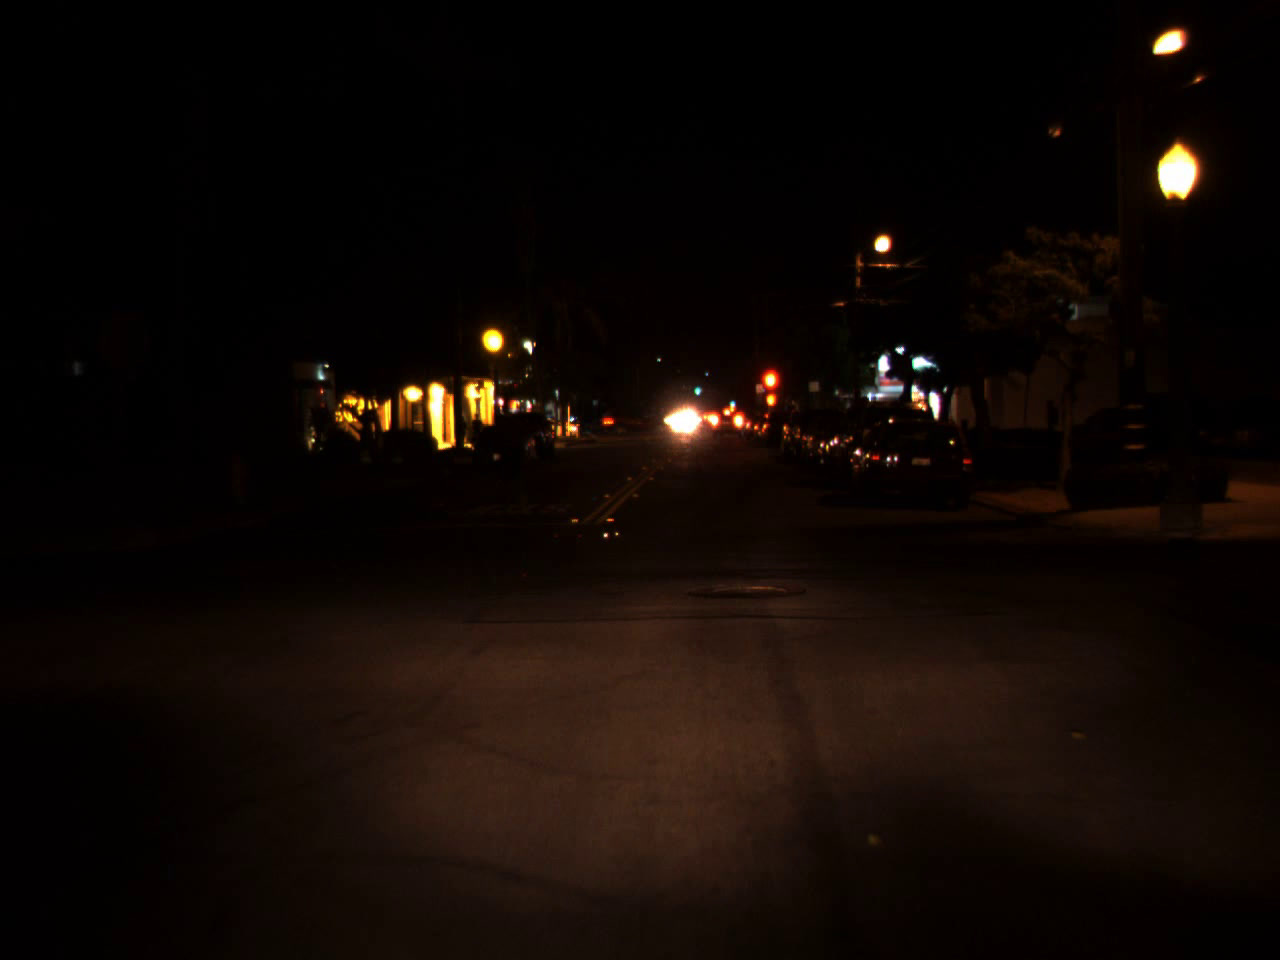go: (692, 380, 701, 395), (728, 395, 735, 407)
stop: (758, 365, 782, 419)
